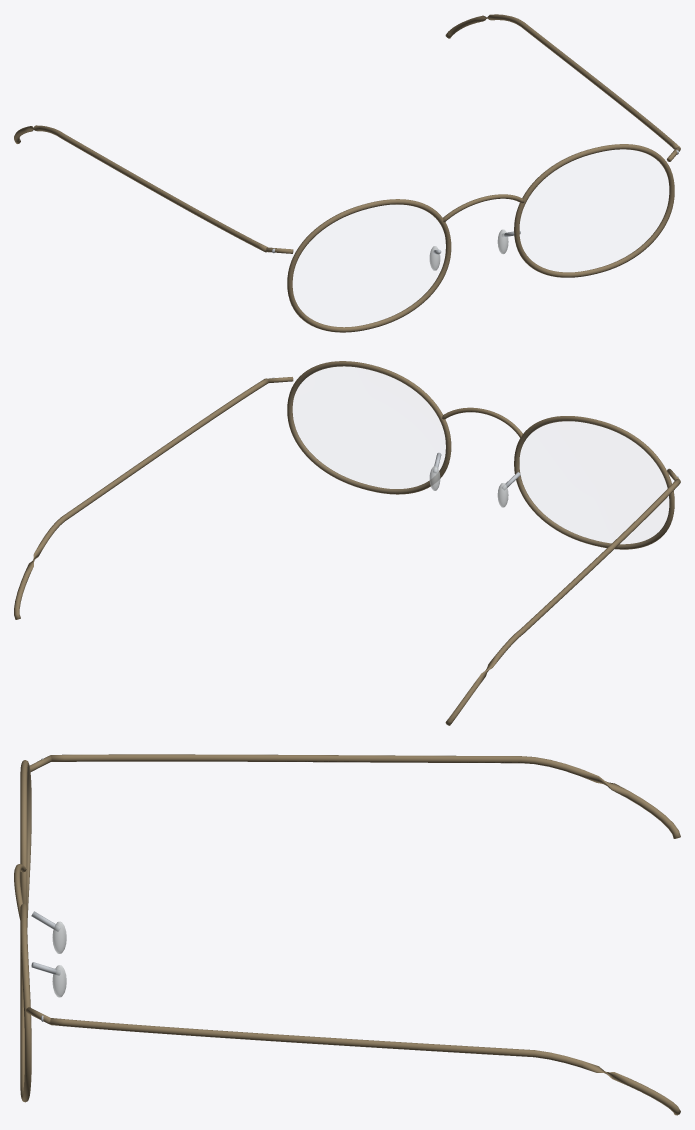
Rendered from tim-46-v1.glb.
3 views of the same model, one above another, from view 1: azimuth 30°, elevation 25°; view 2: azimuth 150°, elevation 25°; view 3: azimuth 270°, elevation 25° (orthographic). The views are drawn at different scales.
Visible parts, largest first — view 1: rim_right, rim_left, temple_right, temple_left; view 2: rim_left, rim_right, temple_left, temple_right; view 3: temple_right, temple_left, rim_left, rim_right.
Part boxes in pixels (box(x1,y1,x2,y2)): rim_right: box(287, 199, 451, 332); rim_left: box(514, 144, 674, 277); temple_right: box(14, 125, 267, 252); temple_left: box(445, 14, 680, 149); rim_left: box(287, 361, 451, 494); rim_right: box(514, 416, 674, 549); temple_left: box(14, 378, 268, 619); temple_right: box(445, 479, 680, 725); temple_right: box(50, 754, 680, 838); temple_left: box(50, 1018, 680, 1115); rim_left: box(20, 903, 31, 1102); rim_right: box(20, 760, 31, 927).
Bounding box in the file's own units: 0.1567 × 0.0407 × 0.149.
